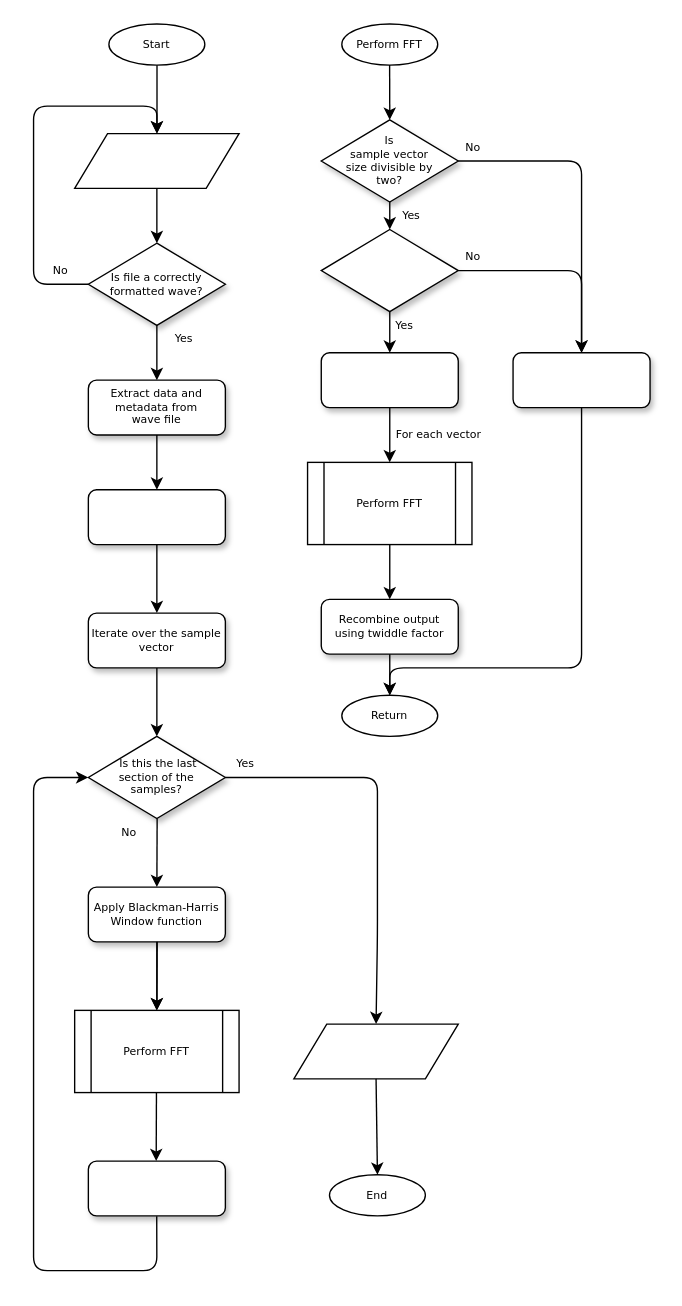
Some shapes in this 682 by 1306 pixel diagram are drawn without their labels. The shapes that lost their labels are listed below. From the top down, each one's centre as x and y in pixels, then its label:
At (156,160): "Input file name to read".
At (390,272): "Is sample vector size greater than two?".
At (390,381): "Divide odd and even positioned samples into new vectors".
At (582,381): "Perform DFT on sample".
At (158,518): "Construct and populate sample vectors".
At (375,1051): "Write all Midi events to file".
At (158,1189): "Find peak frequency at this time and create a Midi event for it".
